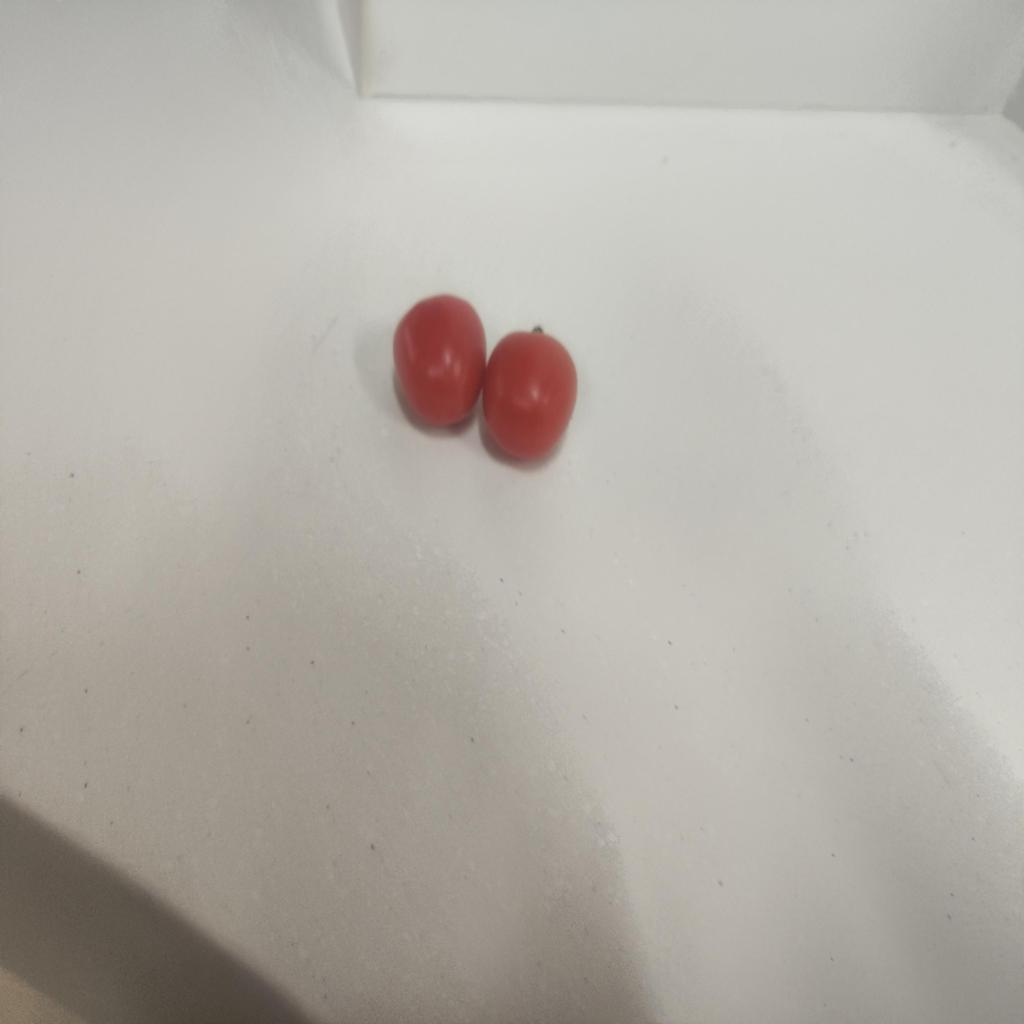tomato: (485, 316, 584, 466), (393, 294, 484, 420)
